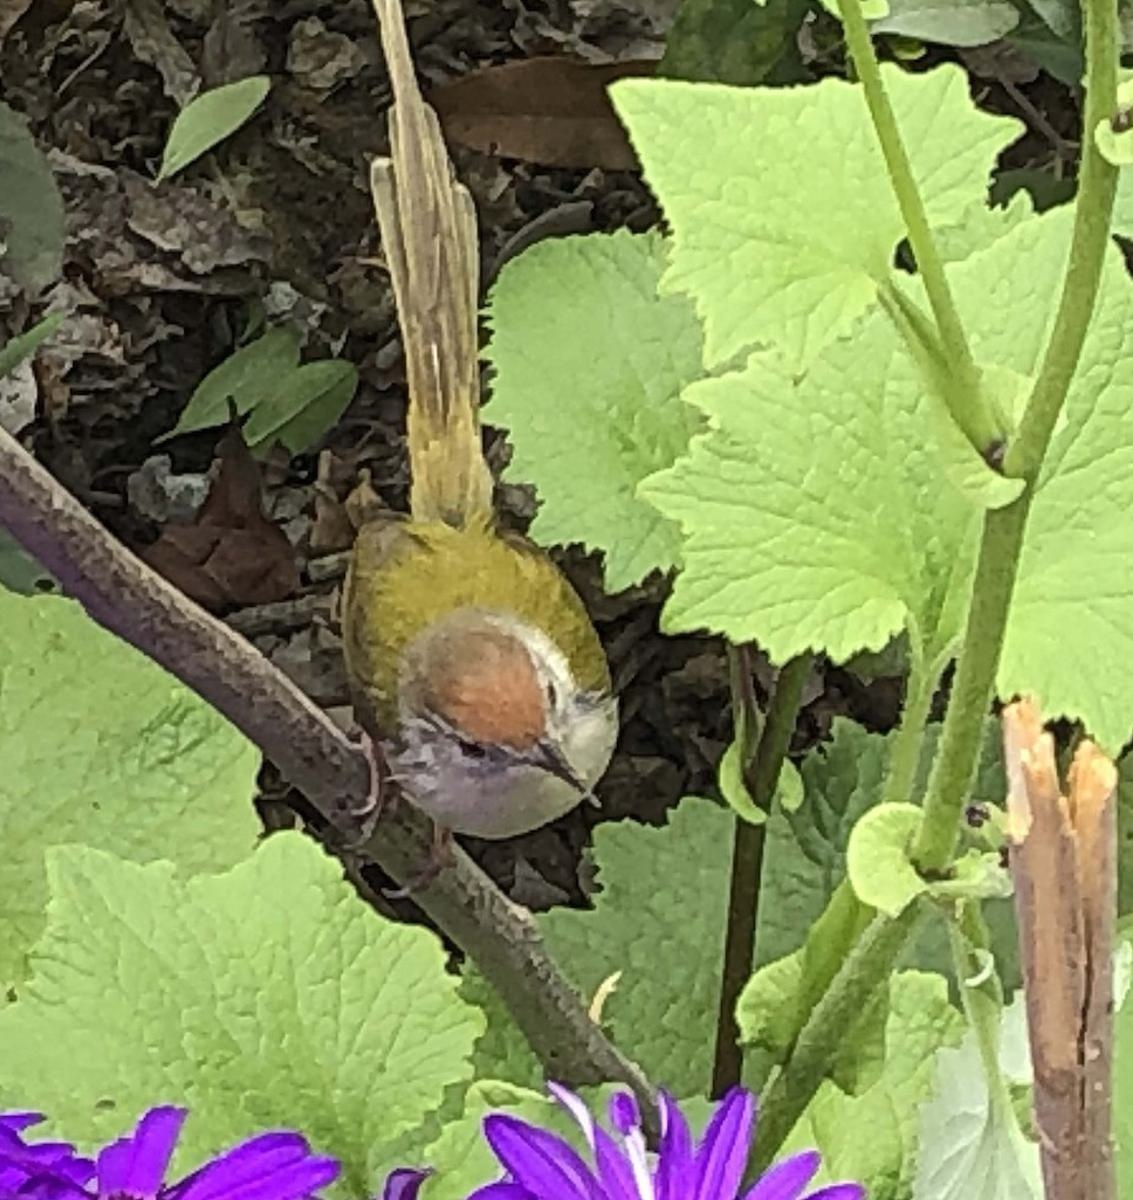tailorbird: (276, 350, 638, 869)
